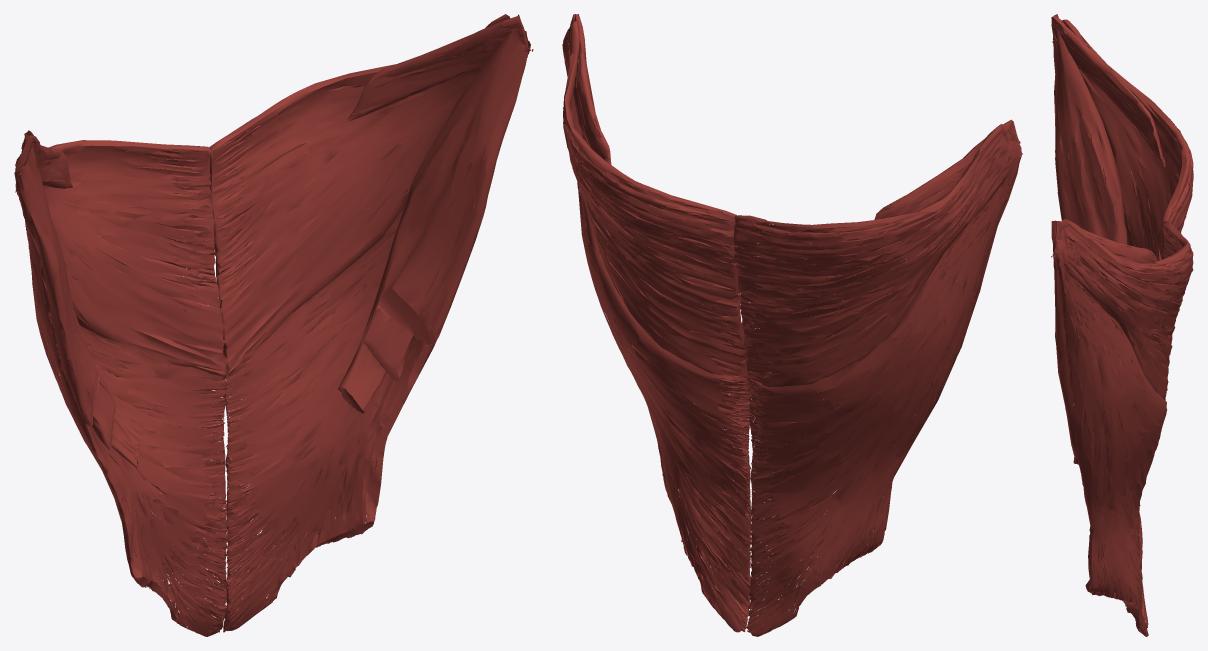
The model's file is explorar-latissimus_dorsi.glb.
3 views of the same model, side by side, from view 1: azimuth 30°, elevation 25°; view 2: azimuth 150°, elevation 25°; view 3: azimuth 270°, elevation 25° (orthographic). The views are drawn at different scales.
Visible parts, largest first — view 1: latissimus_dorsi__dorsal_izquierdo, latissimus_dorsi__dorsal_derecho, latissimus_dorsi__extremo_humeral_izquierdo, latissimus_dorsi__extremo_humeral_derecho; view 2: latissimus_dorsi__dorsal_derecho, latissimus_dorsi__dorsal_izquierdo, latissimus_dorsi__extremo_humeral_derecho, latissimus_dorsi__extremo_humeral_izquierdo; view 3: latissimus_dorsi__dorsal_izquierdo, latissimus_dorsi__dorsal_derecho, latissimus_dorsi__extremo_humeral_izquierdo, latissimus_dorsi__extremo_humeral_derecho.
Boxes of the visible parts, x1,y1,x2,y2 form: latissimus_dorsi__dorsal_izquierdo: (209,30,521,632); latissimus_dorsi__dorsal_derecho: (15,140,227,636); latissimus_dorsi__extremo_humeral_izquierdo: (467,14,533,94); latissimus_dorsi__extremo_humeral_derecho: (14,130,43,212); latissimus_dorsi__dorsal_derecho: (733,148,1017,636); latissimus_dorsi__dorsal_izquierdo: (563,39,751,632); latissimus_dorsi__extremo_humeral_derecho: (964,119,1022,199); latissimus_dorsi__extremo_humeral_izquierdo: (562,14,588,90); latissimus_dorsi__dorsal_izquierdo: (1054,220,1193,636); latissimus_dorsi__dorsal_derecho: (1054,45,1193,627); latissimus_dorsi__extremo_humeral_izquierdo: (1051,219,1113,285); latissimus_dorsi__extremo_humeral_derecho: (1051,14,1105,96).
Size of the model in its own units: 0.3584 by 0.3974 by 0.0999.
